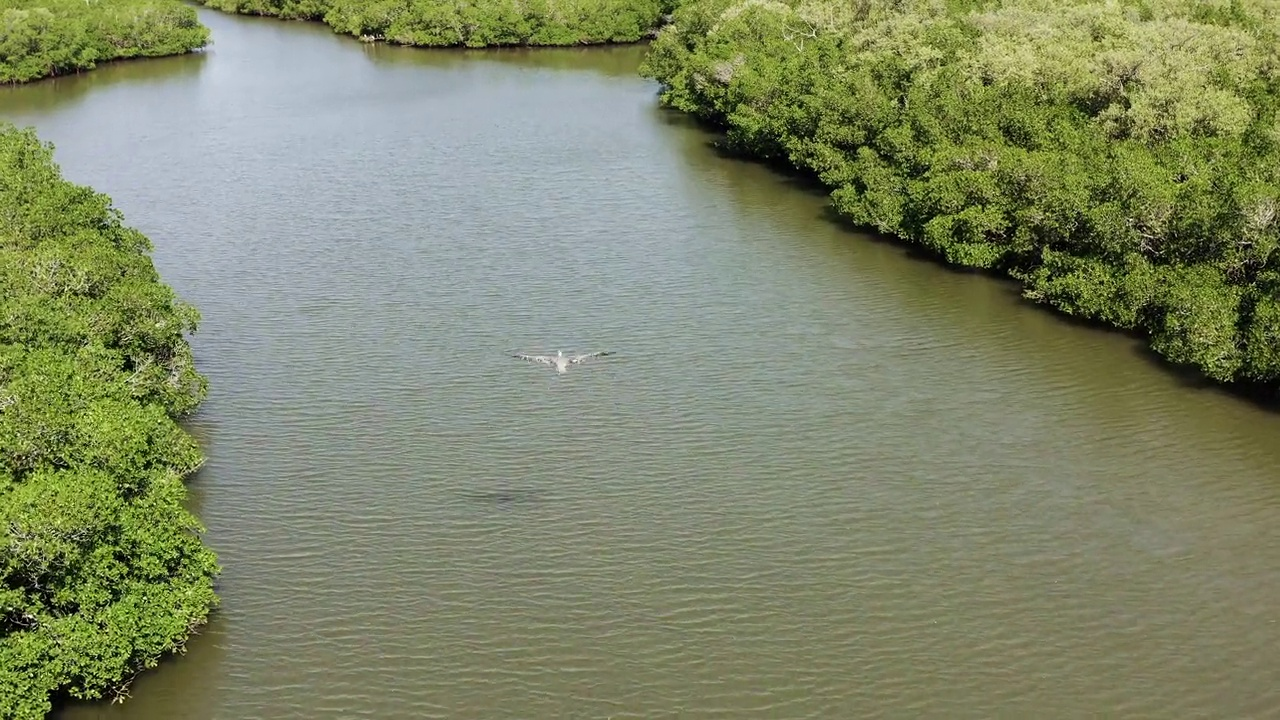bird: (509, 349, 612, 377)
